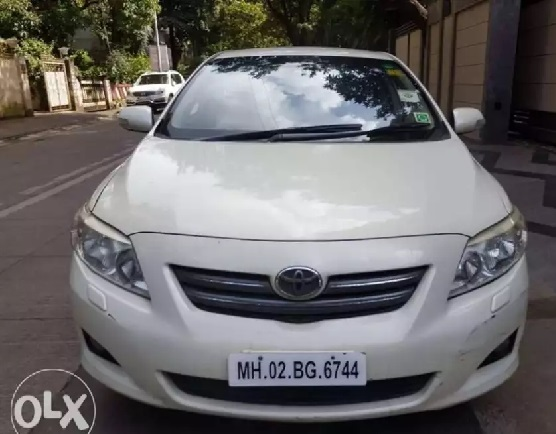licenseplate: (226, 351, 370, 387)
